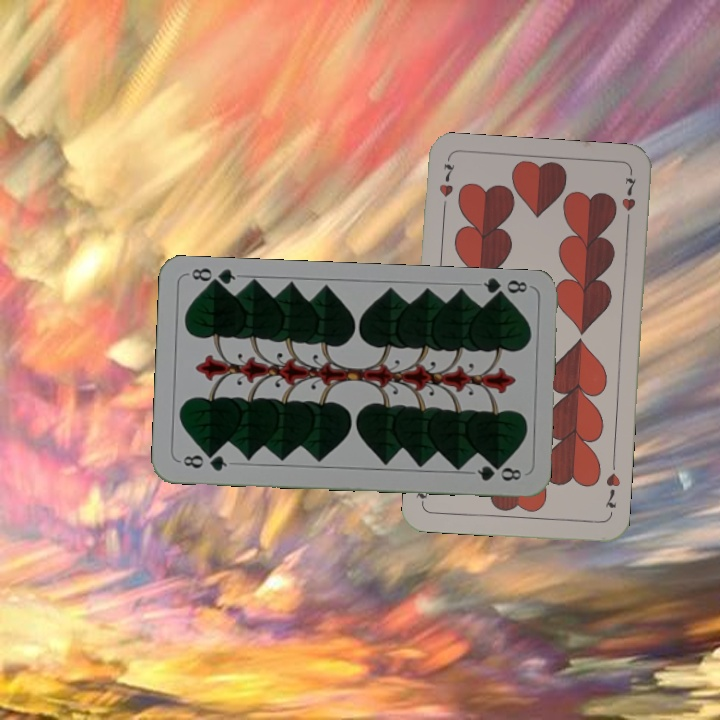G8: (479, 275, 529, 303), (176, 449, 230, 474)
H7: (435, 160, 457, 216), (601, 469, 623, 510)
